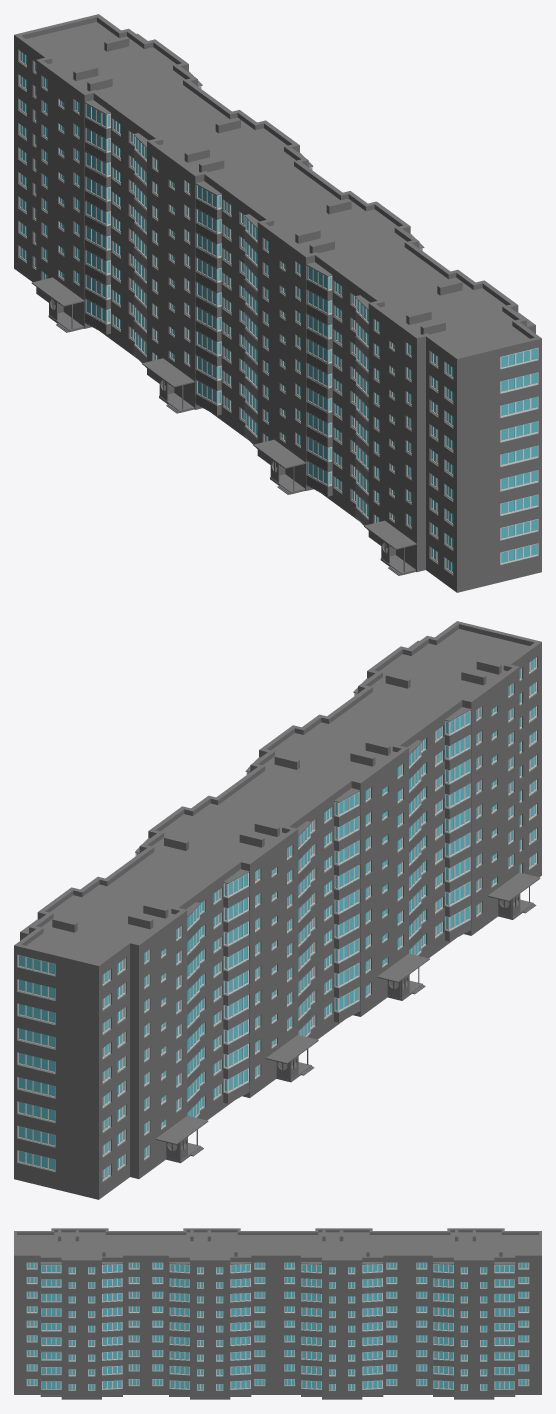
File: home-3.FBX
3 views of the same model, one above another, from view 1: azimuth 30°, elevation 25°; view 2: azimuth 150°, elevation 25°; view 3: azimuth 270°, elevation 25° (orthographic). The views are drawn at different scales.
Visible parts, largest first — view 1: verh, OBJ005, etaj002, etaj003, etaj001, etaj, etaj004; view 2: verh, OBJ005, etaj003, etaj002, etaj001, etaj, etaj004; view 3: verh, OBJ005, etaj003, etaj, etaj001, etaj002, etaj004.
Boxes of the visible parts, <box> form: verh: <box>14,14,541,390</box>; OBJ005: <box>14,189,541,592</box>; etaj002: <box>14,140,541,488</box>; etaj003: <box>14,116,541,464</box>; etaj001: <box>14,165,541,513</box>; etaj: <box>14,67,541,415</box>; etaj004: <box>14,91,541,439</box>; verh: <box>14,621,541,997</box>; OBJ005: <box>14,796,541,1199</box>; etaj003: <box>14,723,541,1071</box>; etaj002: <box>14,747,541,1095</box>; etaj001: <box>14,772,541,1120</box>; etaj: <box>14,674,541,1022</box>; etaj004: <box>14,698,541,1046</box>; verh: <box>14,1228,541,1279</box>; OBJ005: <box>14,1347,541,1399</box>; etaj003: <box>14,1303,541,1322</box>; etaj: <box>14,1274,541,1293</box>; etaj001: <box>14,1333,541,1352</box>; etaj002: <box>14,1318,541,1337</box>; etaj004: <box>14,1289,541,1308</box>.
Size of the model in its own units: 1920 by 3315 by 11231.
